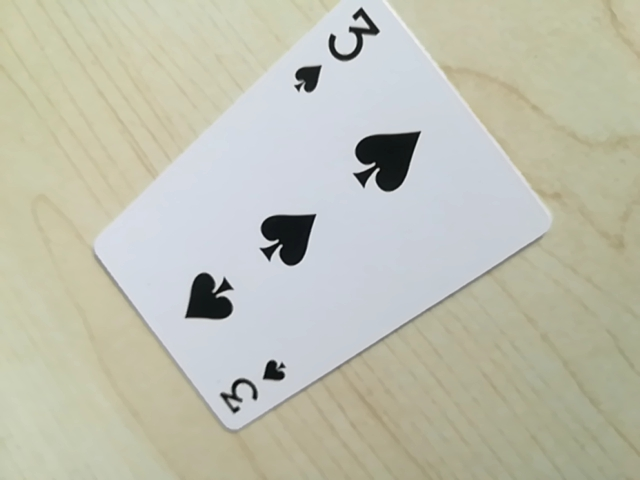ht 3: (290, 0, 382, 95), (213, 356, 292, 423)
